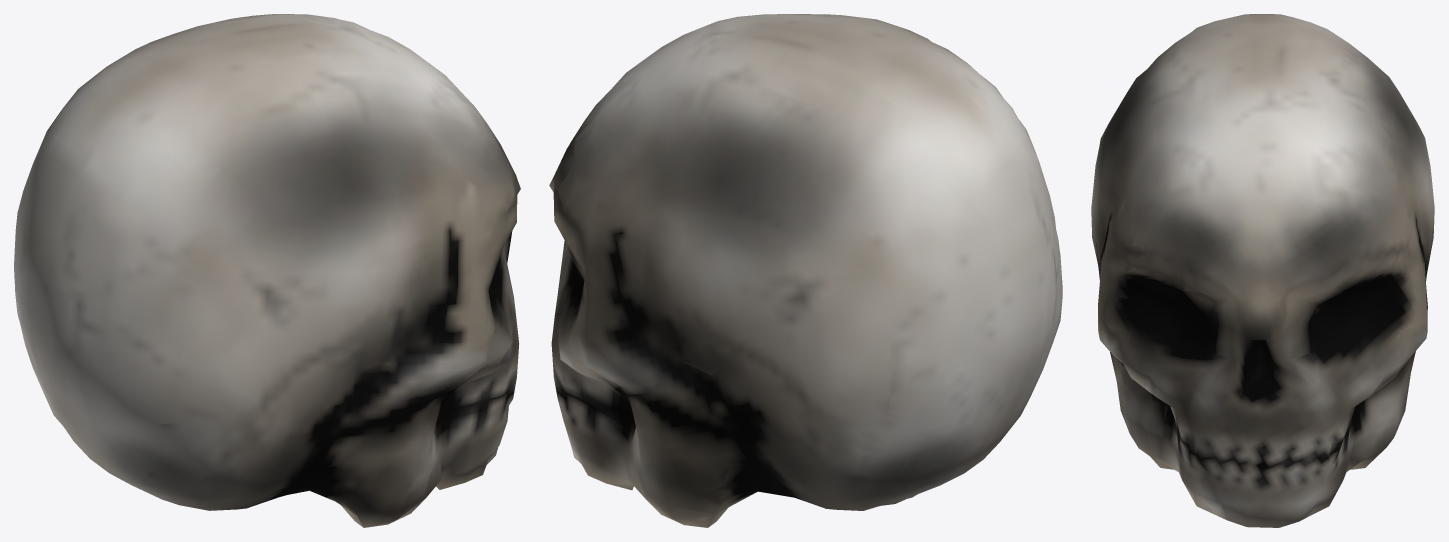
Rendered from skull.obj.
3 views of the same model, side by side, from view 1: azimuth 30°, elevation 25°; view 2: azimuth 150°, elevation 25°; view 3: azimuth 270°, elevation 25° (orthographic). The views are drawn at different scales.
Parts seen in each view (by area): view 1: Sphere_Sphere.002; view 2: Sphere_Sphere.002; view 3: Sphere_Sphere.002.
Boxes of the visible parts, x1,y1,x2,y2 form: Sphere_Sphere.002: (14, 14, 520, 527); Sphere_Sphere.002: (549, 14, 1062, 527); Sphere_Sphere.002: (1091, 14, 1434, 527).
Size of the model in its own units: 3.33 by 3.17 by 2.51.
Materials: 1 (1 with a texture image).
